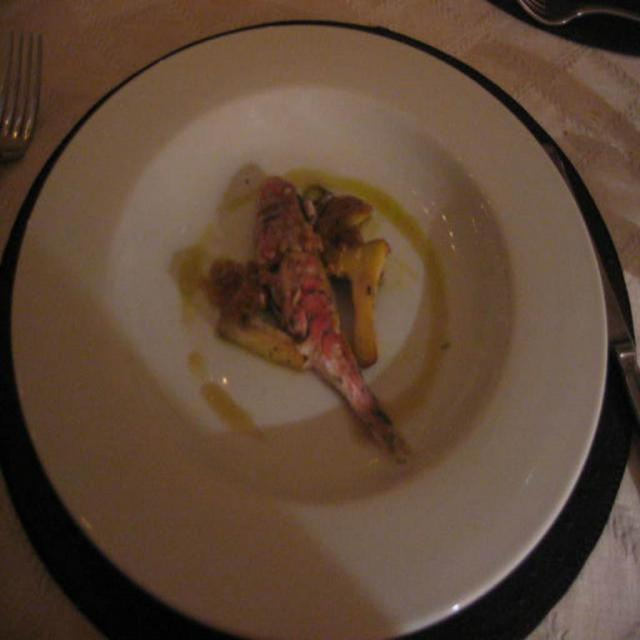non-organic waste: (15, 33, 622, 640)
